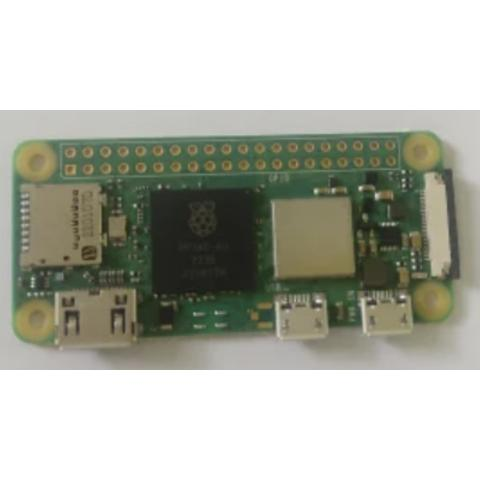Raspberry-Pi-Zero-2-W: (14, 130, 461, 352)
